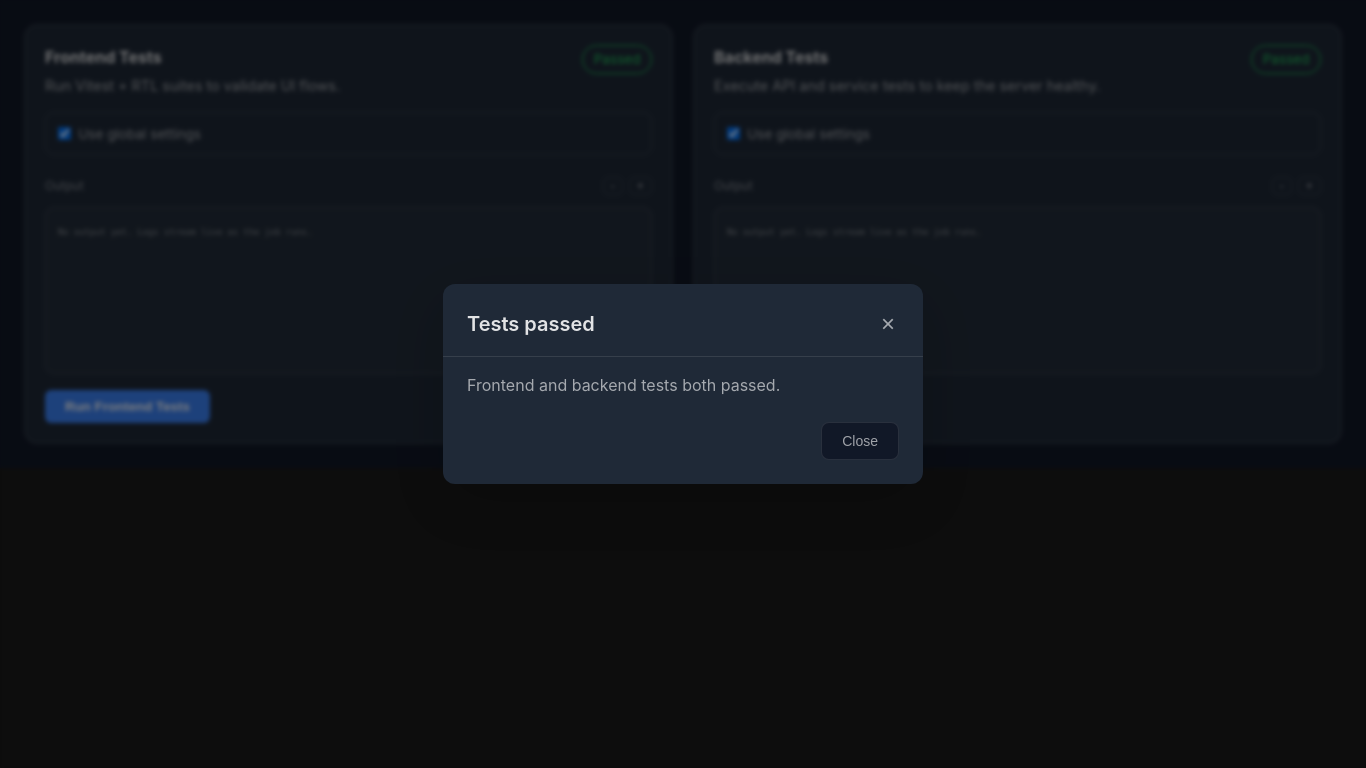
Scenario: TestTab coverage effects › does not reopen modal when rerendered with the same completed run key
This screenshot has width=1366, height=768.
Check: the element with test id "modal-content" is shown, box [443, 284, 923, 484]
Click the button with test id "modal-close" at (888, 324), box [877, 308, 899, 340]
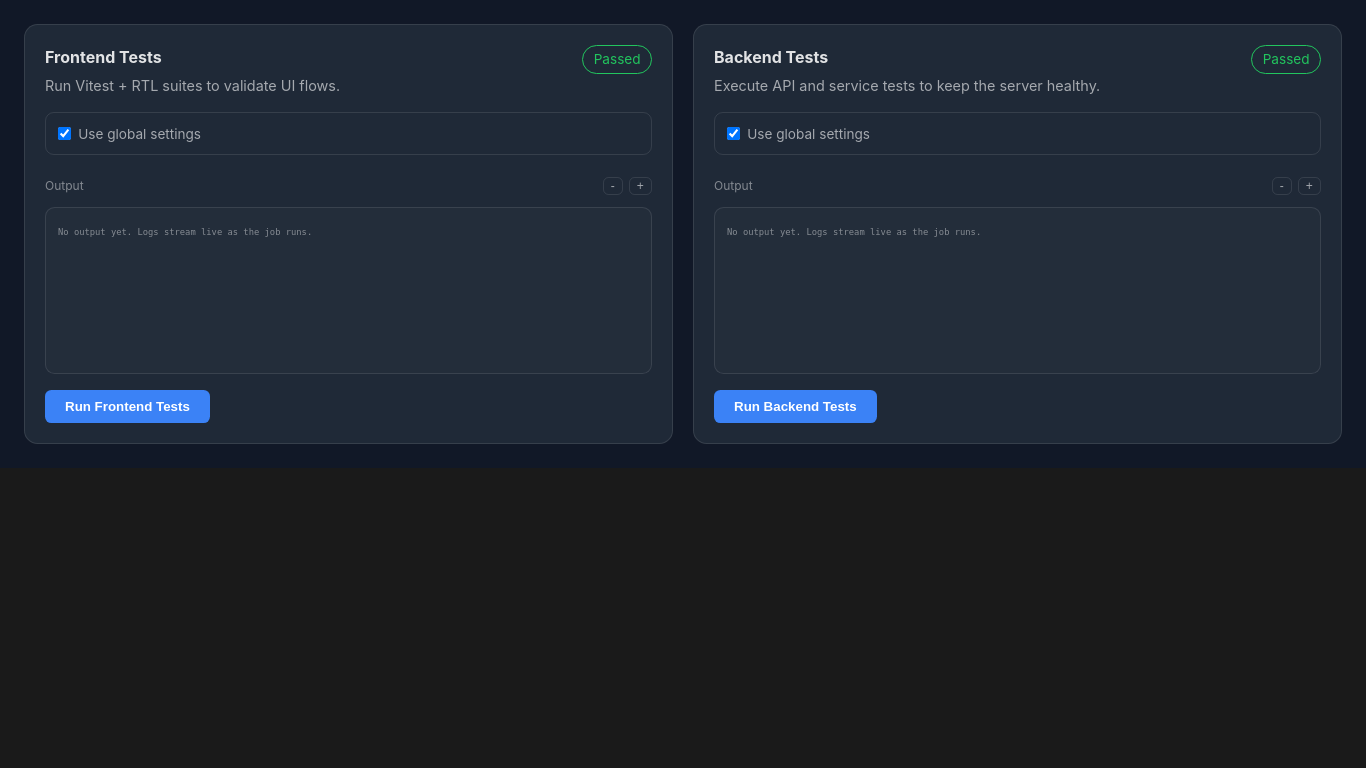
Check: the element with test id "modal-content" is gone
